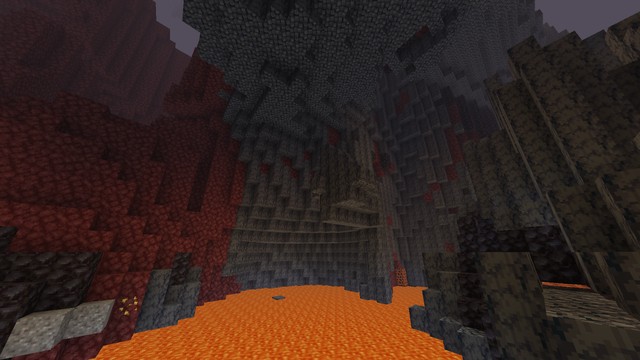nethergold: (116, 290, 144, 320)
